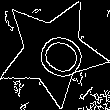O_NW: (20, 21, 85, 83)
